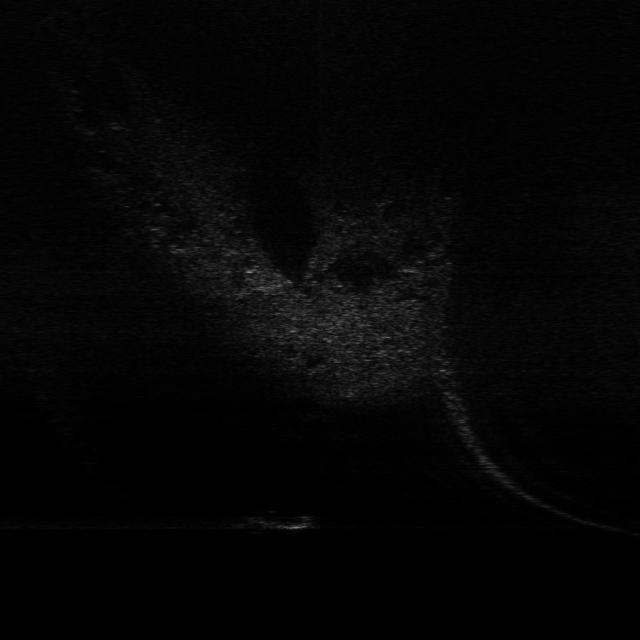cube: (226, 508, 320, 536)
